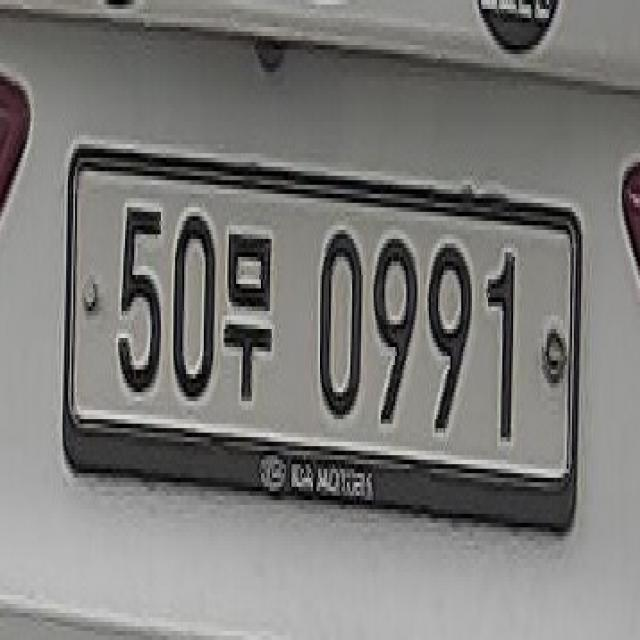0: (167, 204, 219, 414), (314, 216, 364, 429)
1: (482, 245, 526, 453)
5: (116, 182, 166, 406)
9: (424, 234, 474, 452), (370, 228, 420, 442)
license_plate: (50, 112, 592, 576)
mu: (222, 215, 276, 422)
